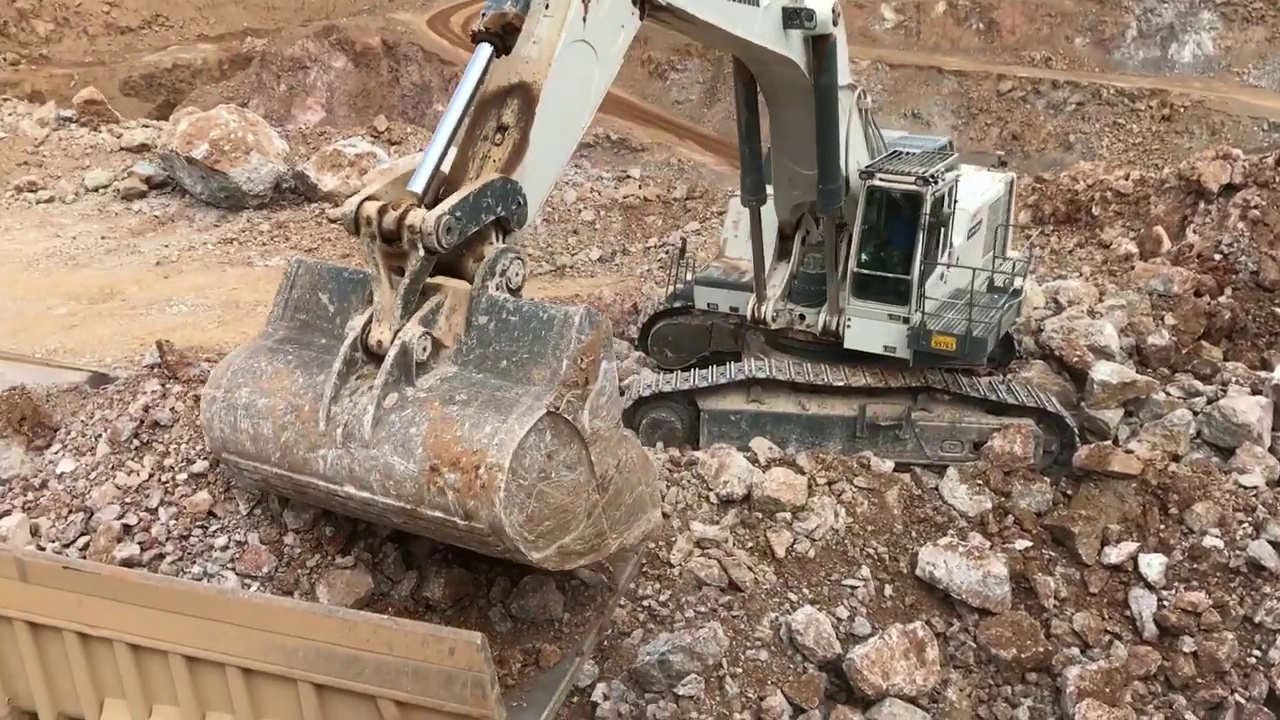dumper: (6, 366, 649, 720)
excavator: (201, 1, 1080, 570)
